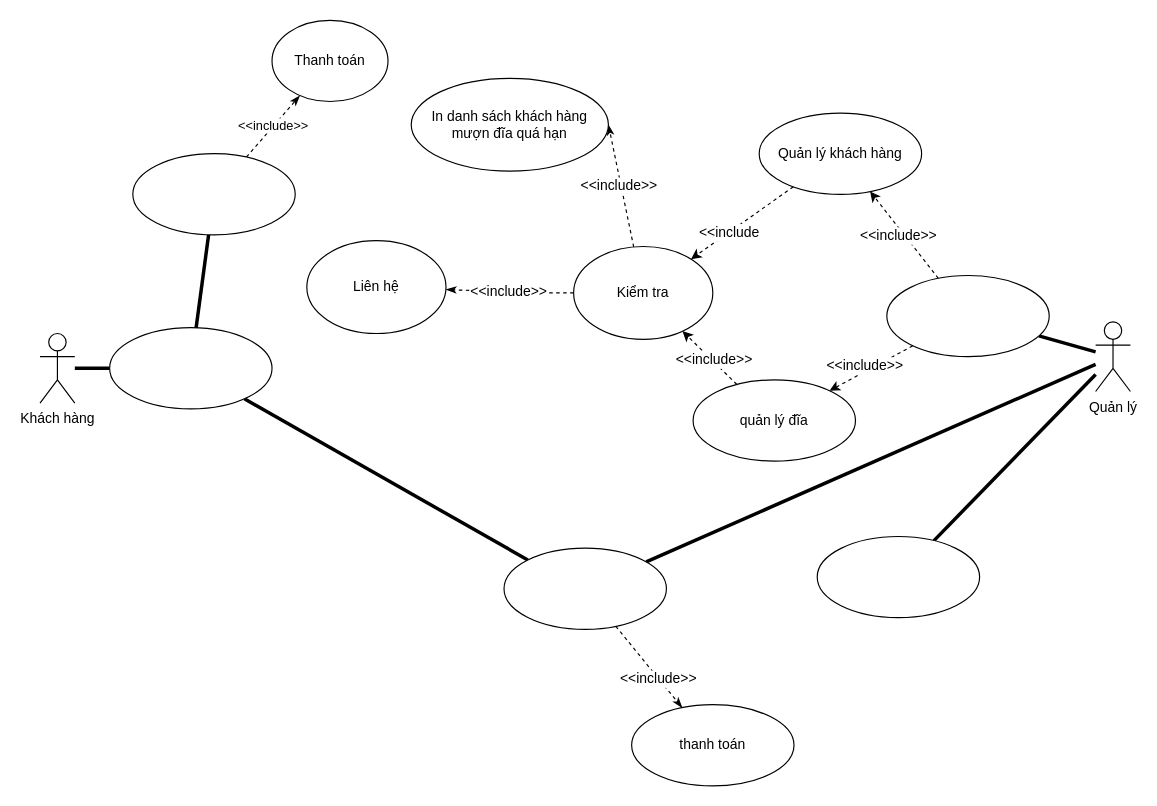
Image size: 1157x806. Some labels were removed from this diagram. Each missing label, with the centre of its shape:
Kiểm tra đĩa nhận lại: the point at 898,576
Mượn đĩa phim: the point at 213,194
Quản lý hệ thống: the point at 967,315
Trả đĩa: the point at 584,588
Đăng ký thành viên: the point at 190,368
